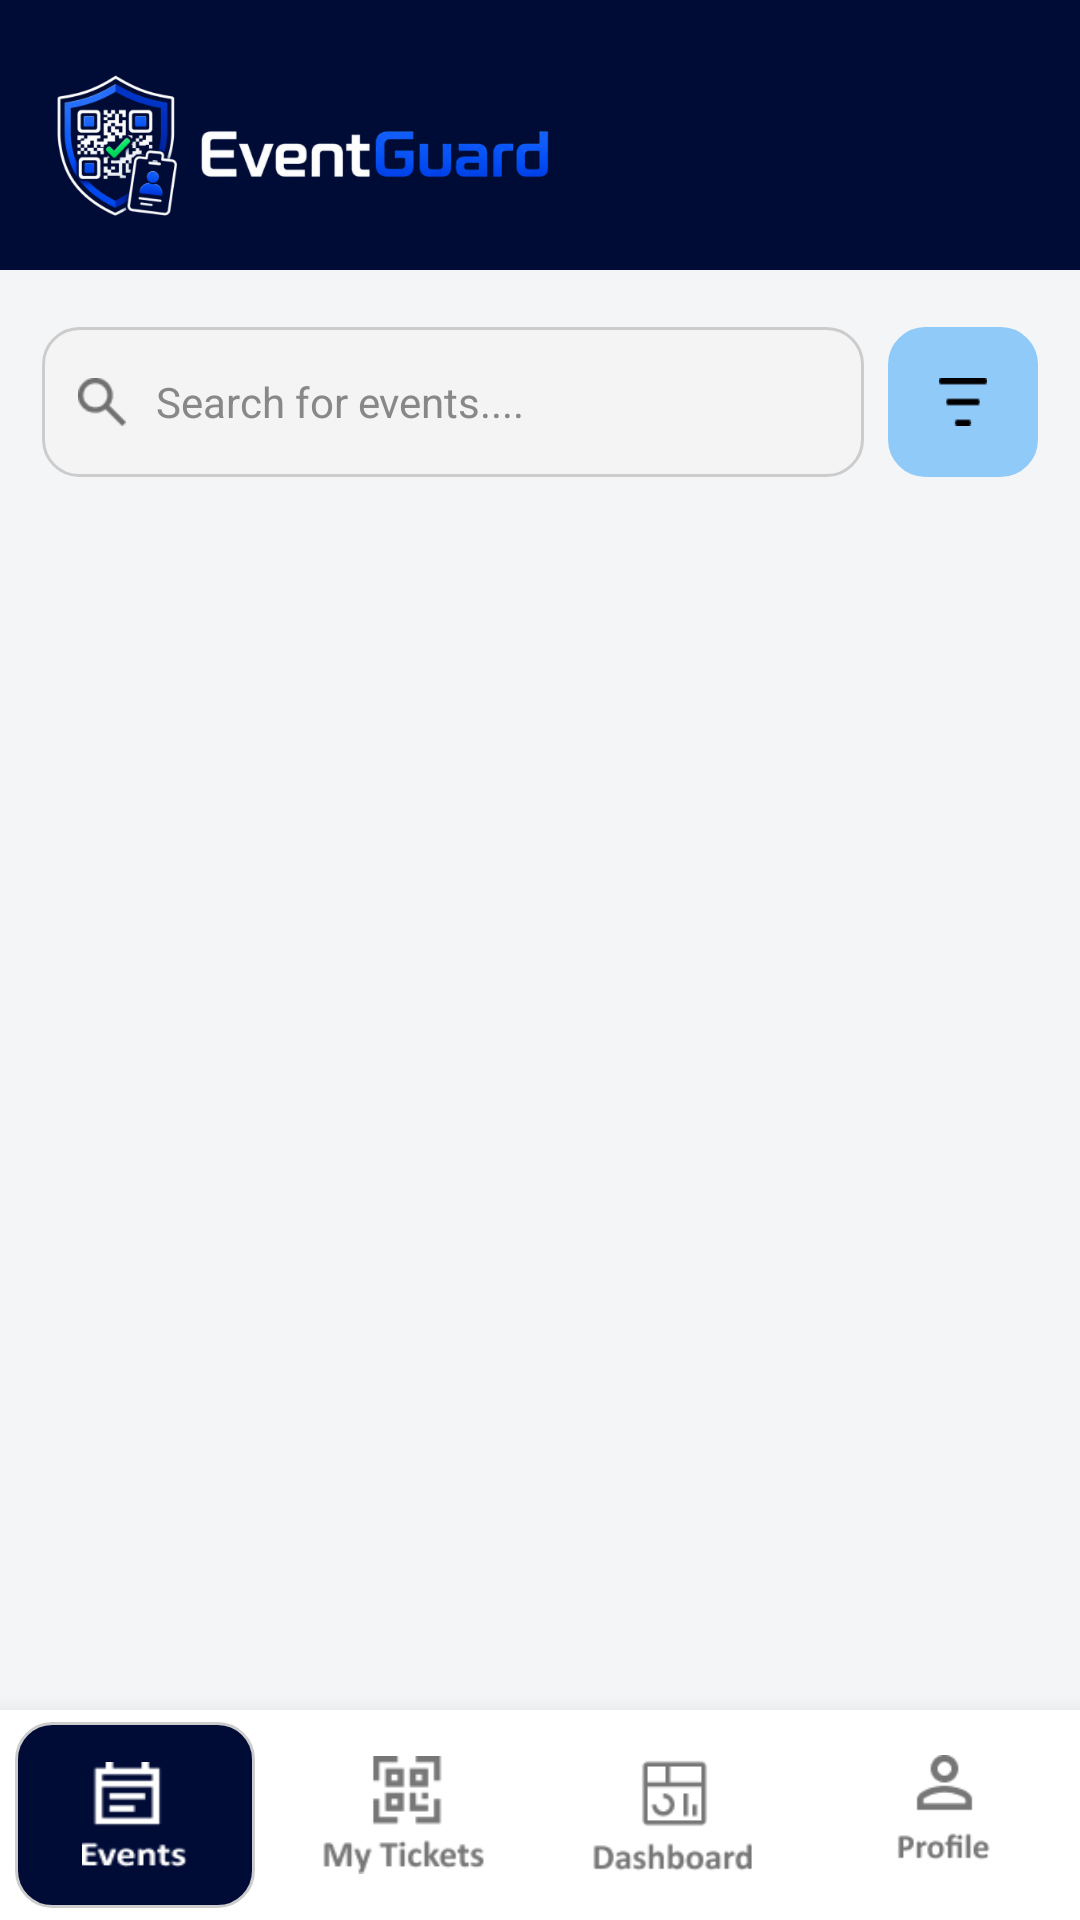

Screen size 1080w x 1920h. Icon name, then its box in pixels as (left=x1, top=y1, right=x2, bottom=y2):
filter: (left=888, top=327, right=1038, bottom=477)
